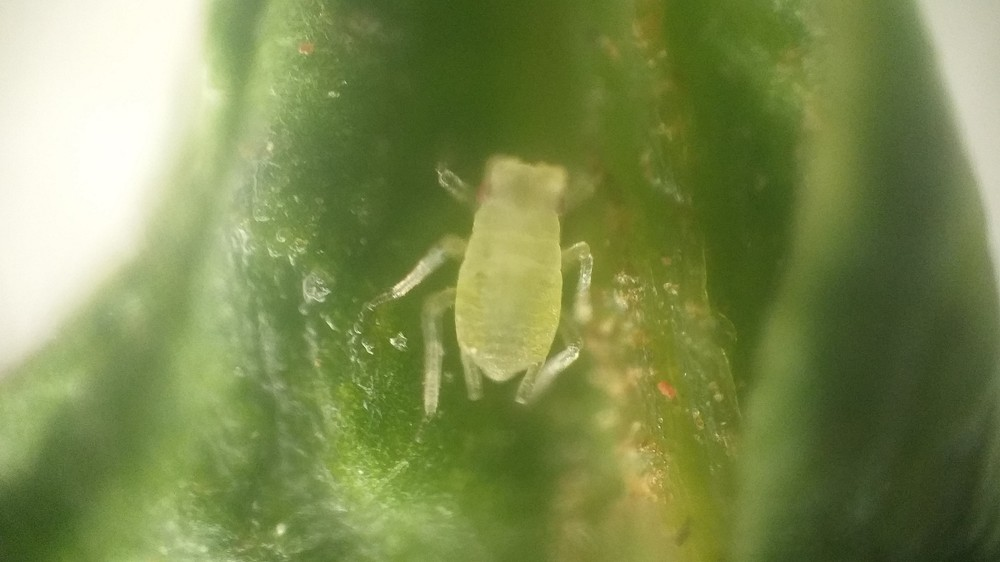Pulgon: (366, 129, 640, 429)
